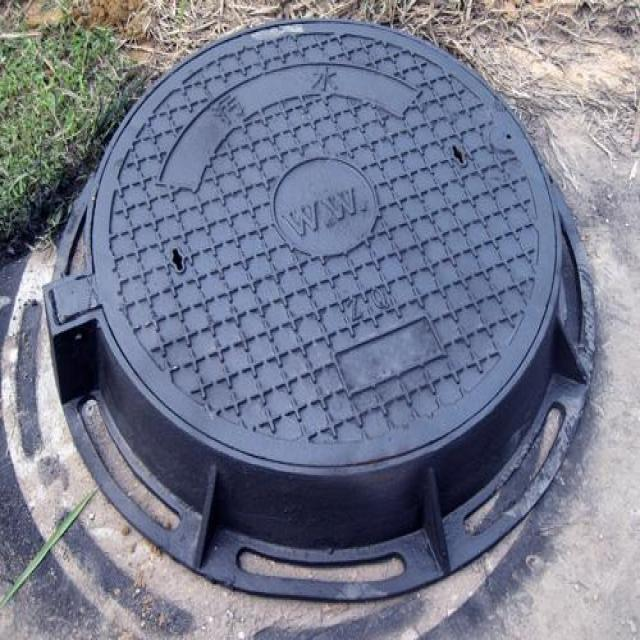manhole: (46, 20, 598, 606)
